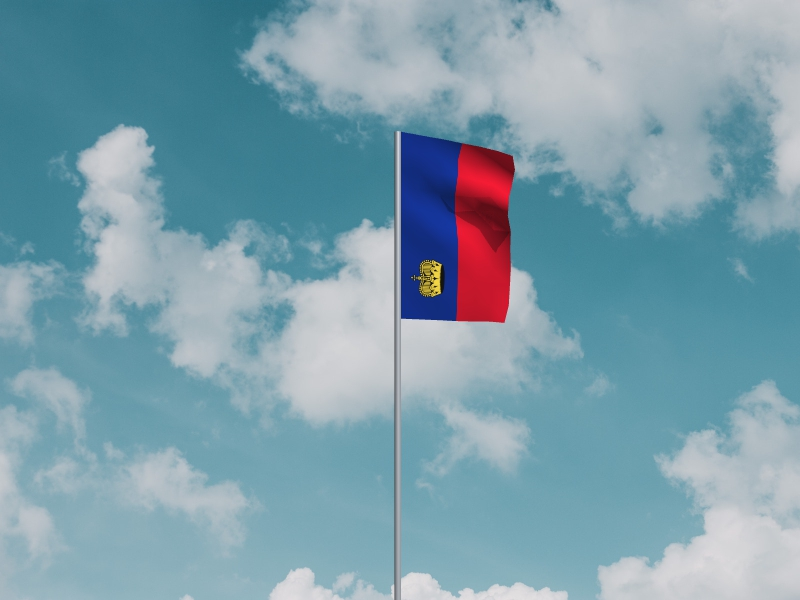li: (402, 133, 517, 325)
